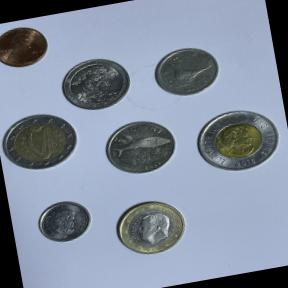coin: (184, 95, 288, 186), (105, 191, 197, 265), (96, 111, 186, 185), (0, 106, 82, 180), (55, 50, 138, 120), (31, 192, 98, 250), (0, 16, 60, 77)
